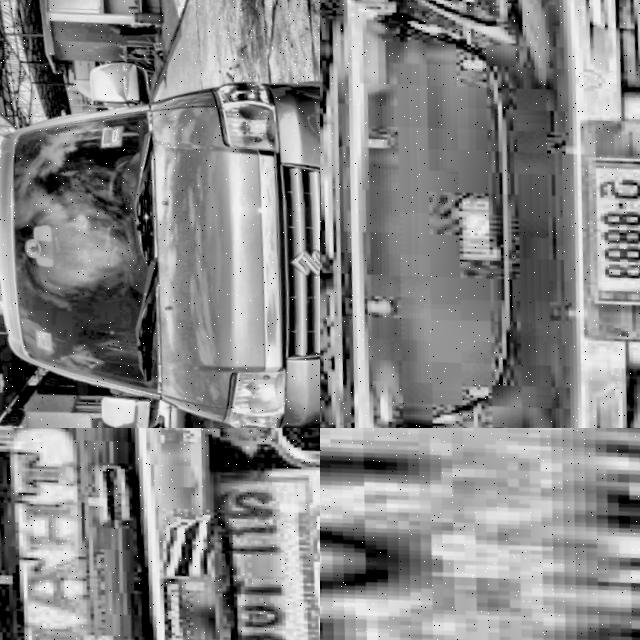license-plate: (320, 428, 640, 640), (188, 445, 320, 640), (574, 139, 640, 303)
